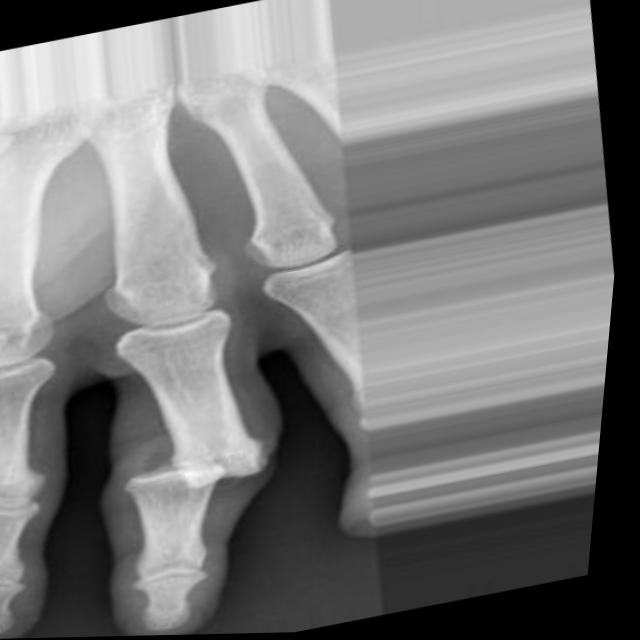fracture: (150, 432, 289, 510)
